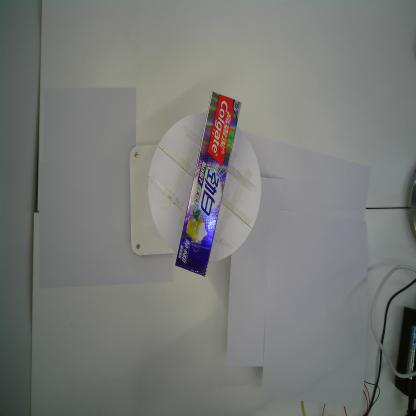Personal Hygiene: (174, 90, 243, 278)
